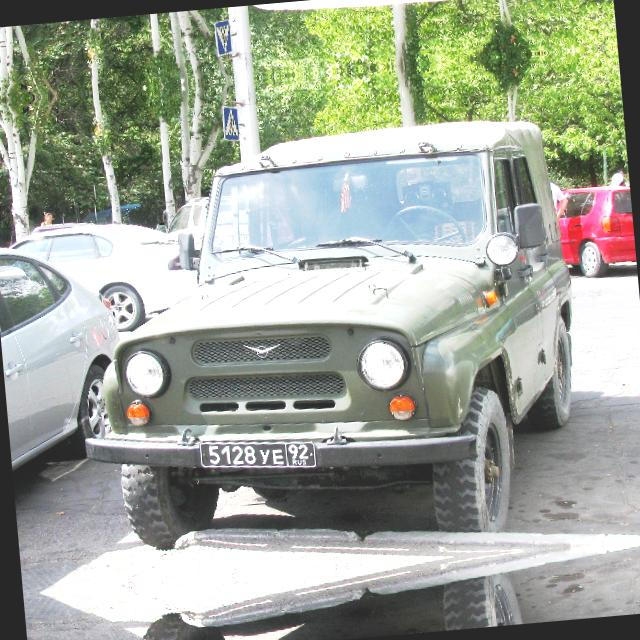military: (192, 426, 323, 482)
